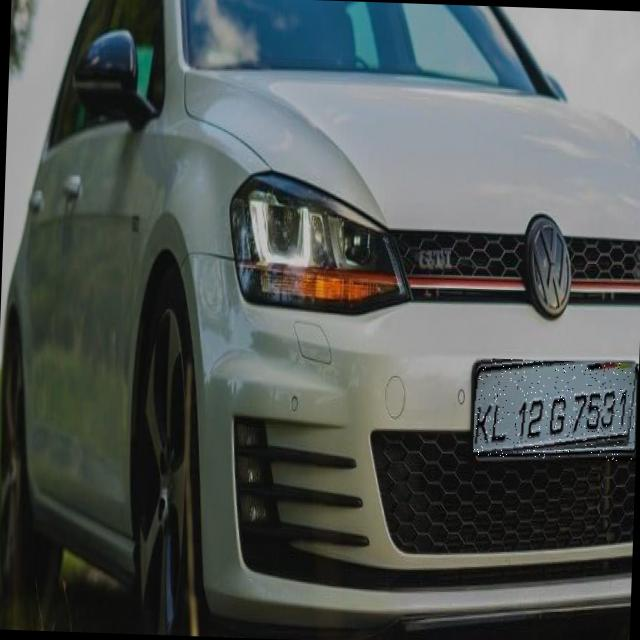Plate: (474, 359, 640, 463)
